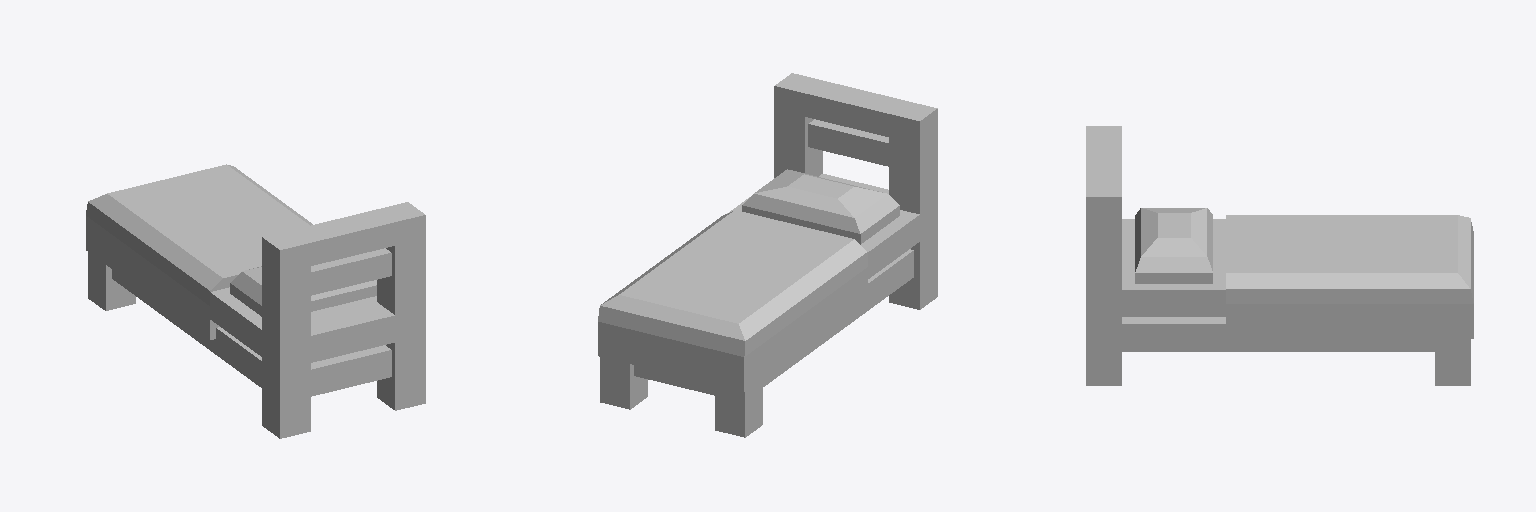
Rendered from bed_single_aethertrench.obj.
3 views of the same model, side by side, from view 1: azimuth 30°, elevation 25°; view 2: azimuth 150°, elevation 25°; view 3: azimuth 270°, elevation 25° (orthographic).
Visible parts, largest first — view 1: bed_aether_trench; view 2: bed_aether_trench; view 3: bed_aether_trench.
Boxes of the visible parts, box(x1,y1,x2,y2) form: bed_aether_trench: box(86, 164, 425, 438); bed_aether_trench: box(598, 73, 937, 437); bed_aether_trench: box(1086, 126, 1473, 385).
Bounding box in the file's own units: 0.65 × 0.7995 × 1.49.